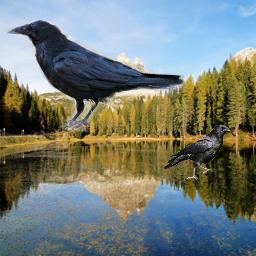Crow: (6, 19, 186, 133), (164, 124, 233, 180)
